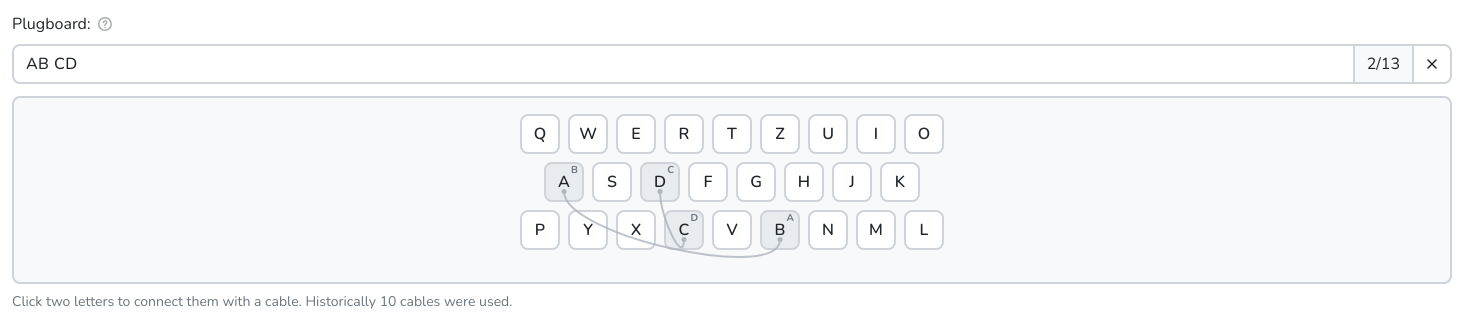
Test: Plugboard text control › clears every cable with the clear button
The width and height of the screenshot is (1464, 326).
Click the button named "Clear plugboard" at coordinates (1432, 64), box [1412,44,1452,84]
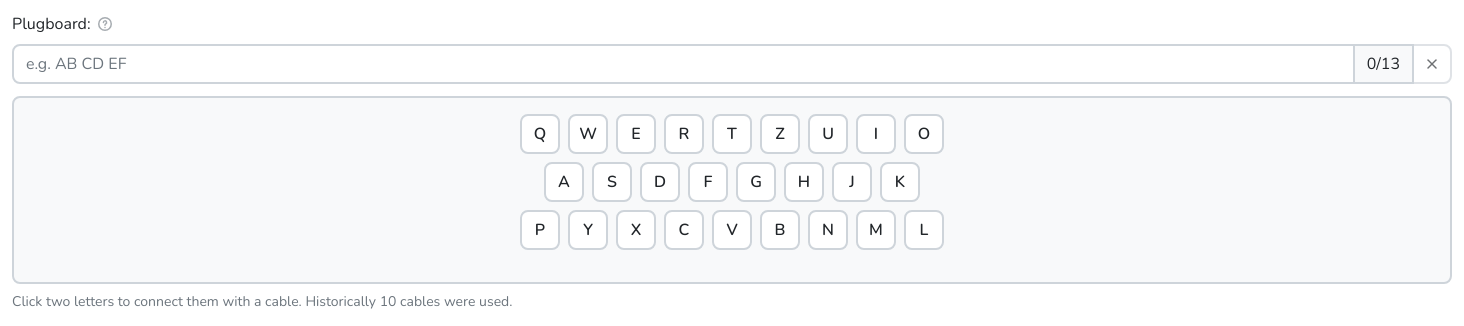
expect the field labelled "Plugboard:" is empty: met, box [12,44,1355,84]
expect the text "0/13" is shown: met, box [1367,52,1400,76]
